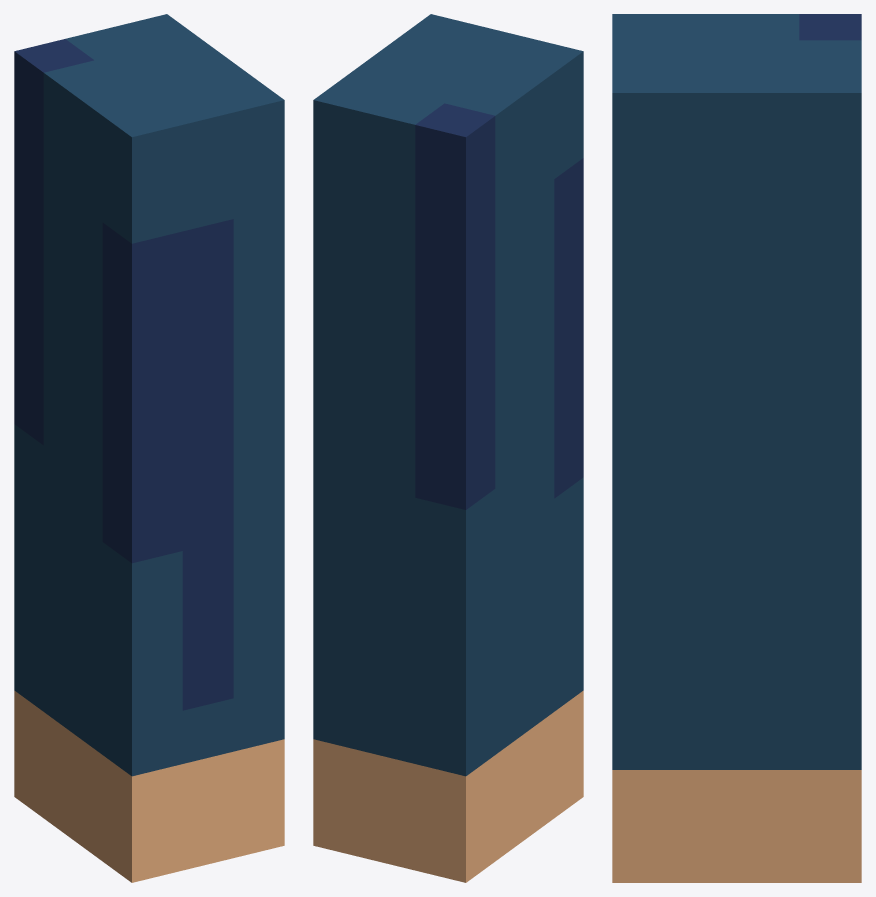
File: arm.obj
The picture shows the model from 3 angles, left to right: view 1: azimuth 30°, elevation 25°; view 2: azimuth 150°, elevation 25°; view 3: azimuth 270°, elevation 25°; orthographic projection. The views are drawn at different scales.
Bounding box in the file's own units: 0.3 × 1.4 × 0.4.
Materials: 1 (1 with a texture image).
